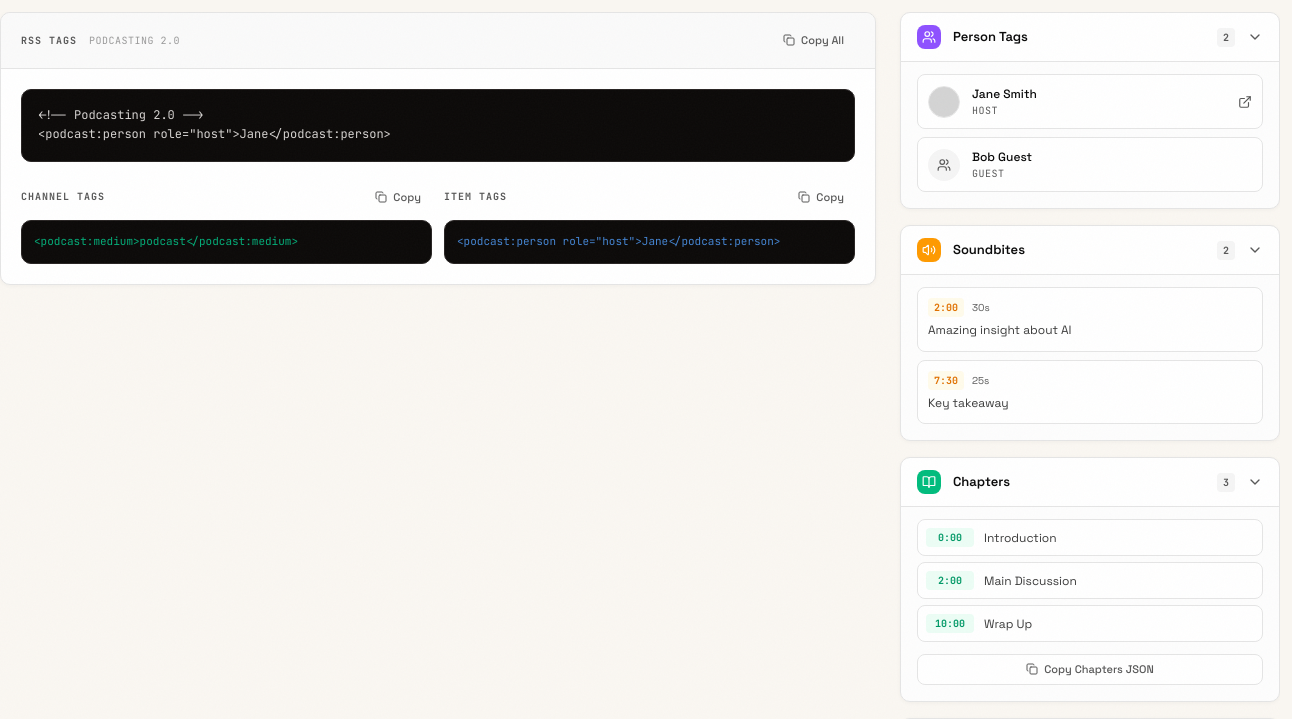
Test: RSSTagsPanel › collapsible sections › toggles section open/close on click
Expected: the text "Jane Smith" is shown, [972,86,1037,102]
// Click to collapse Person Tags section
Click the text "Person Tags" at (990, 37), box [953,28,1028,45]
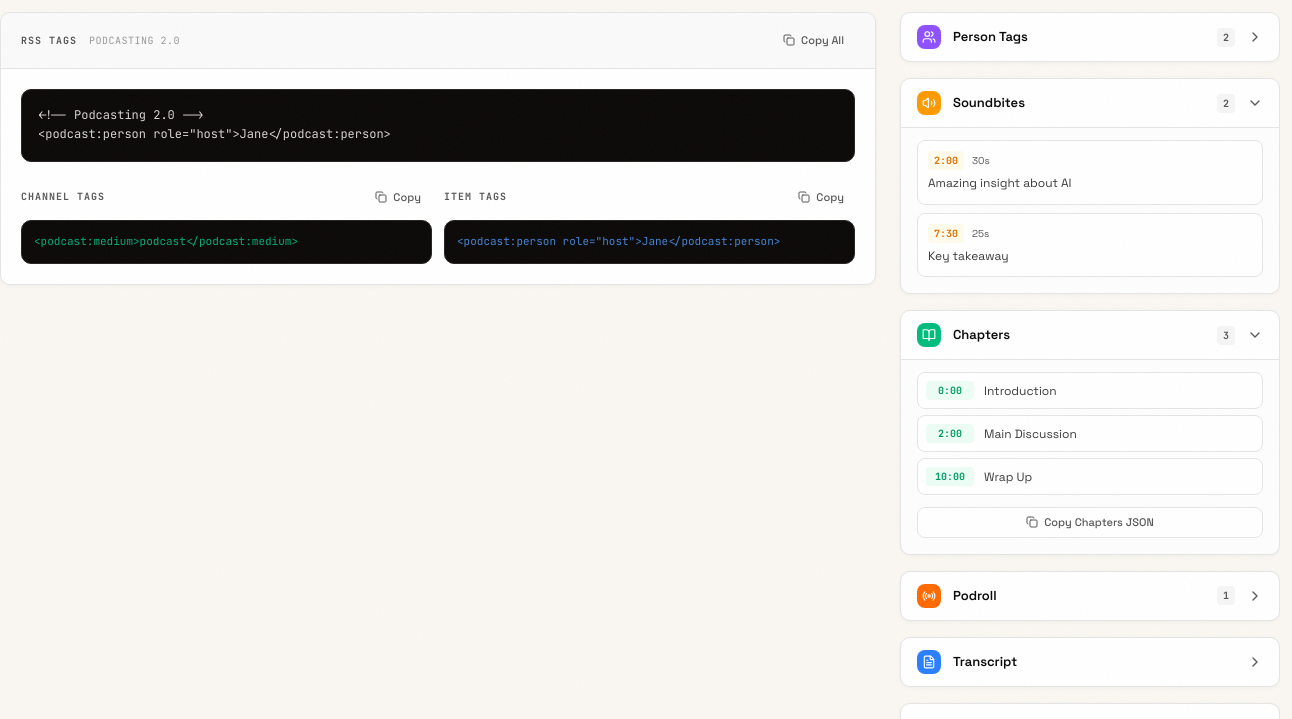
Now the text "Jane Smith" is gone
// Click again to expand
Click the text "Person Tags" at (990, 37), box [953,28,1028,45]
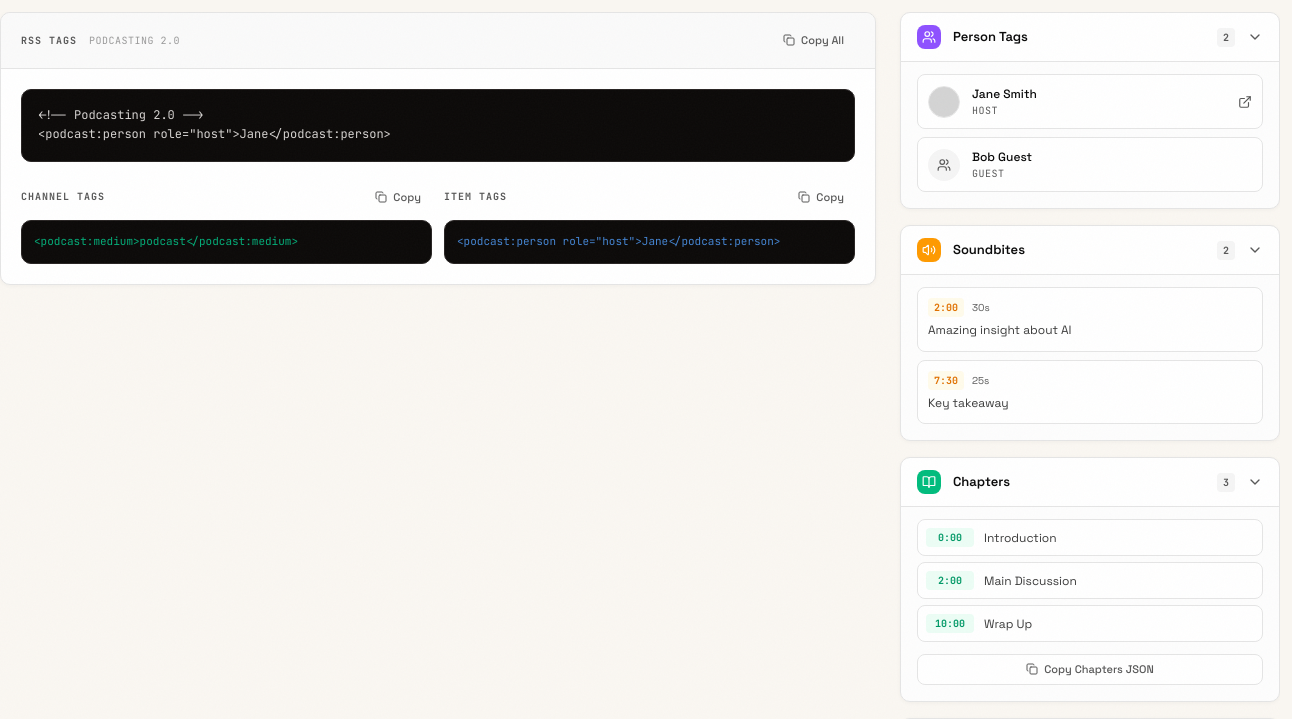
Now the text "Jane Smith" is shown, box [972,86,1037,102]
